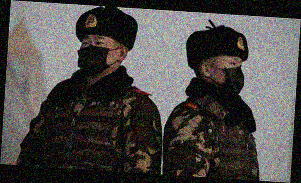with_mask: (77, 34, 119, 75), (209, 56, 245, 94)
